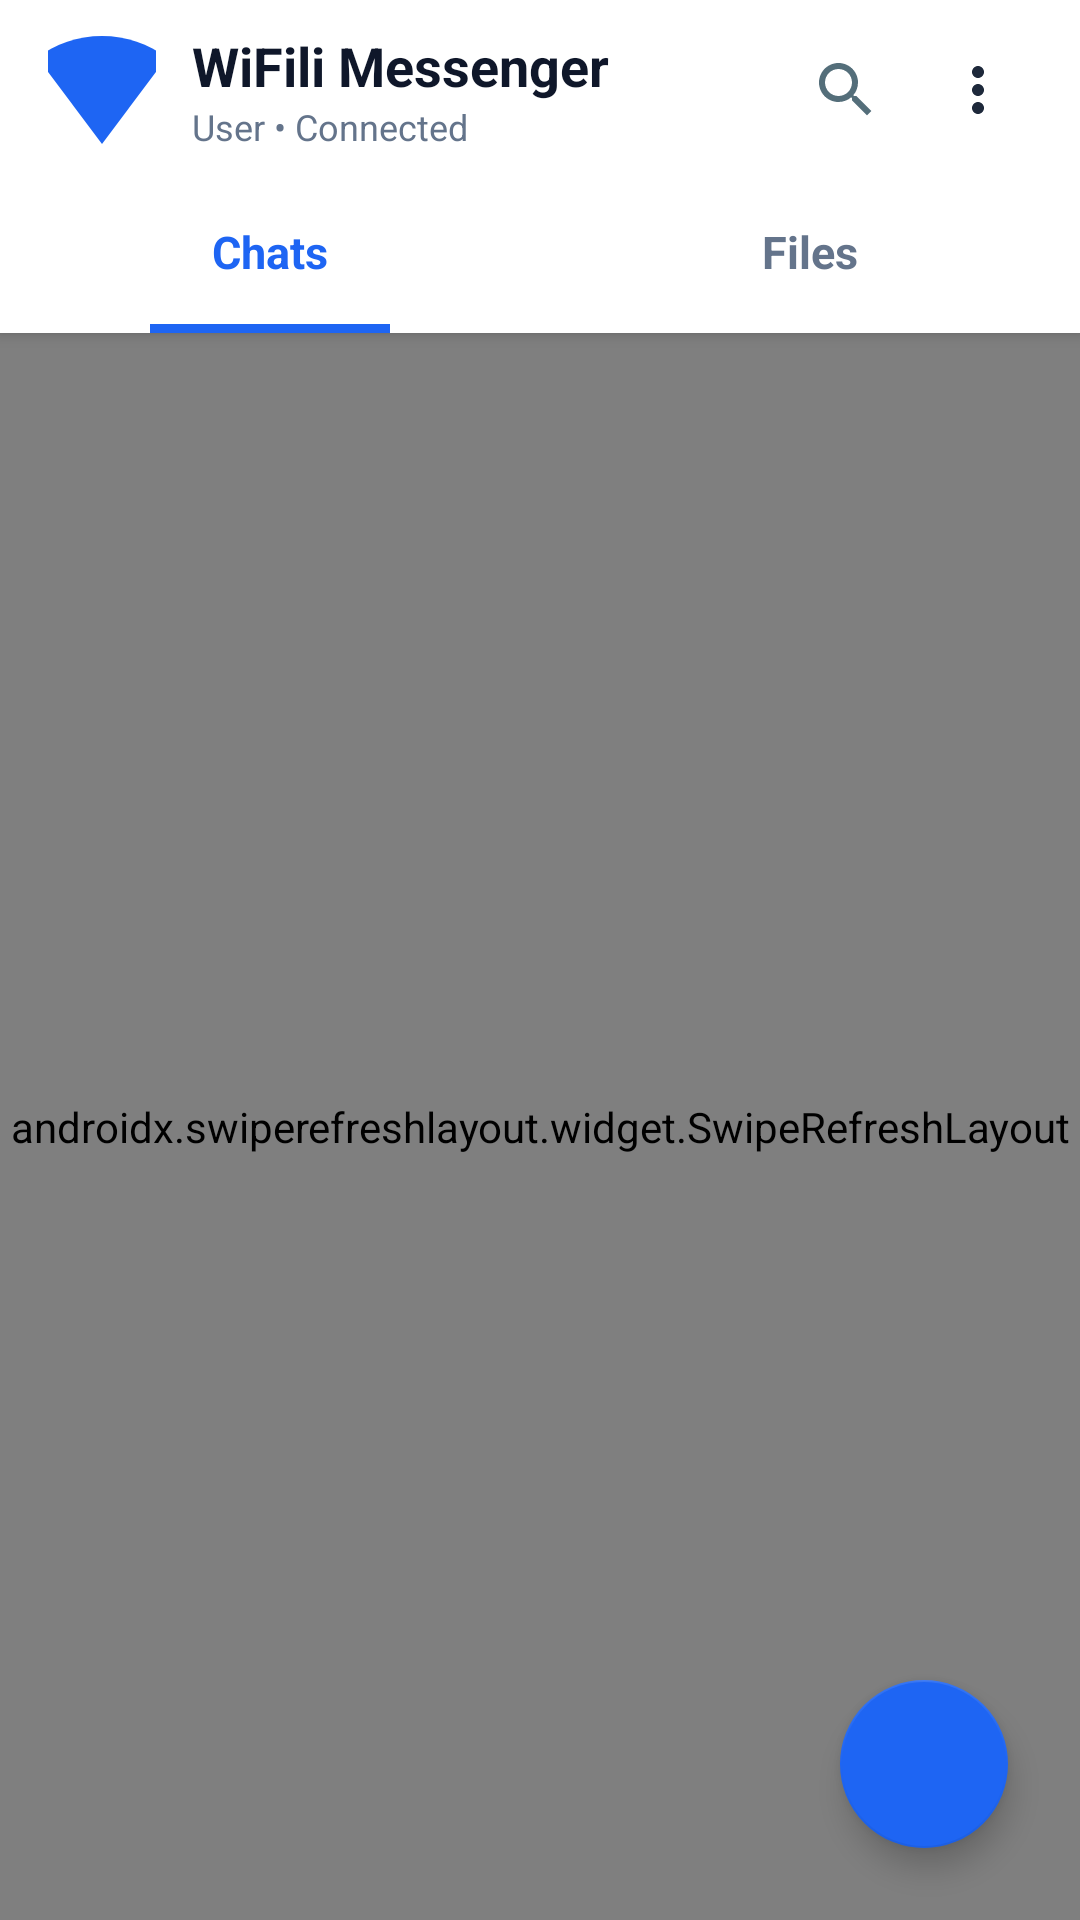

Icon bounding boxes for this 1080 x 1920 phone screenshot, format bbox(x1, y1, x2, y2):
more vert: bbox(972, 66, 984, 114)
search: bbox(819, 63, 871, 115)
